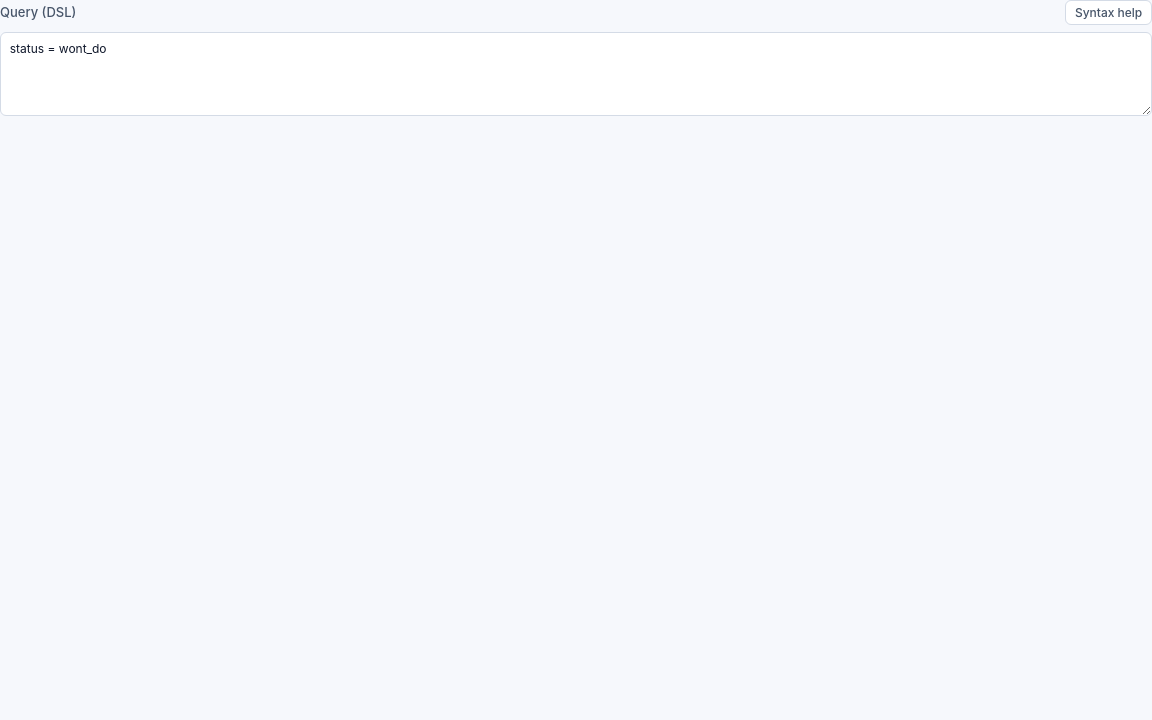
Scenario: keyboard operation › keeps editing when the unsaved-changes warning is declined
The width and height of the screenshot is (1152, 720).
Press Escape in the text box with test id "dsl-input", box [0,32,1151,116]
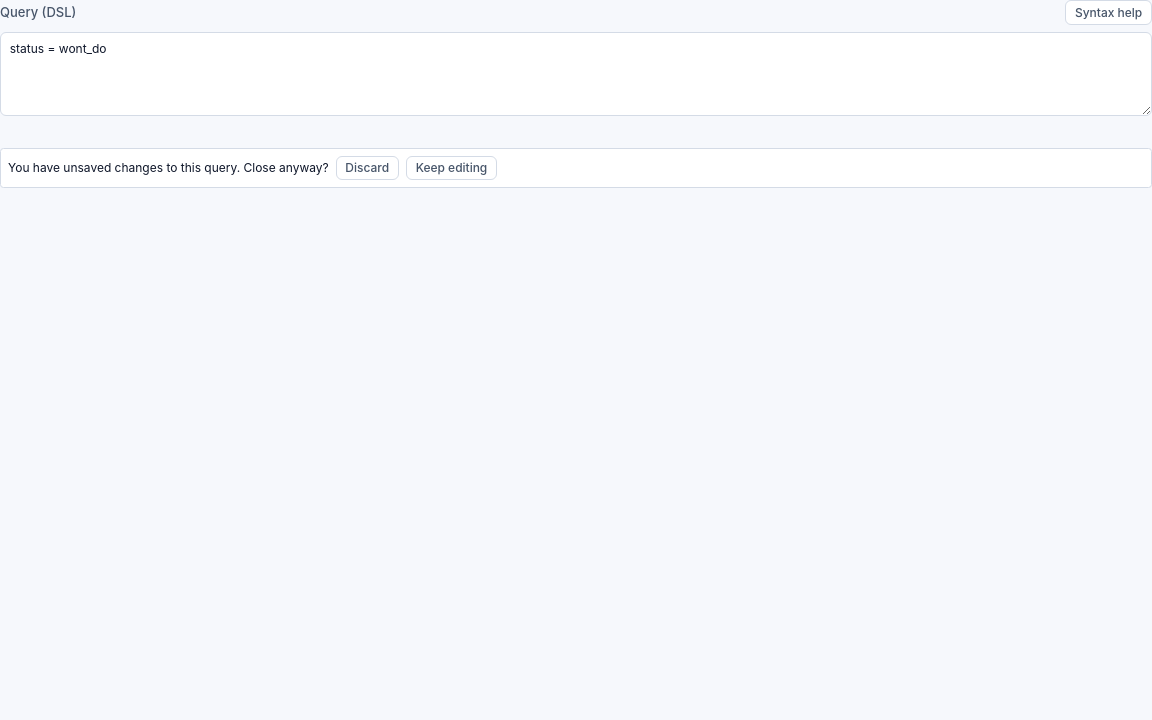
Click the button with test id "dsl-close-keep" at (452,168), box [406,156,497,180]
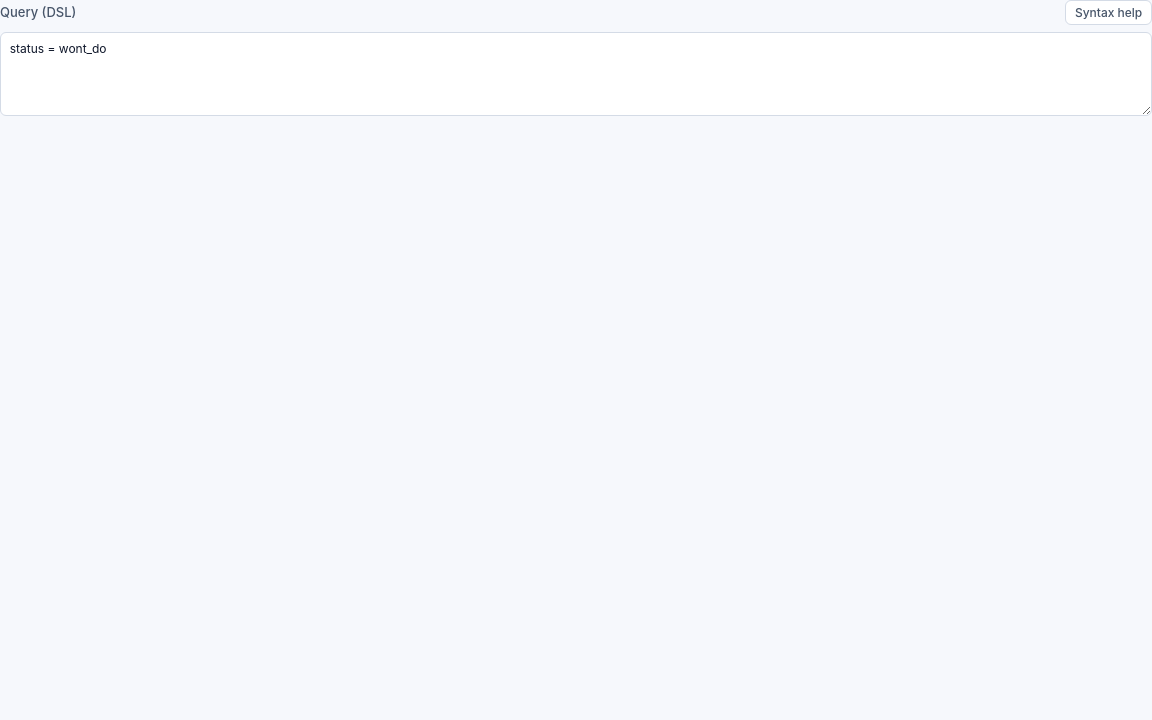
Expected: the text box with test id "dsl-input" holds "status = wont_do", [0,32,1151,116]
Expected: the dialog with test id "dsl-close-confirm" is gone
